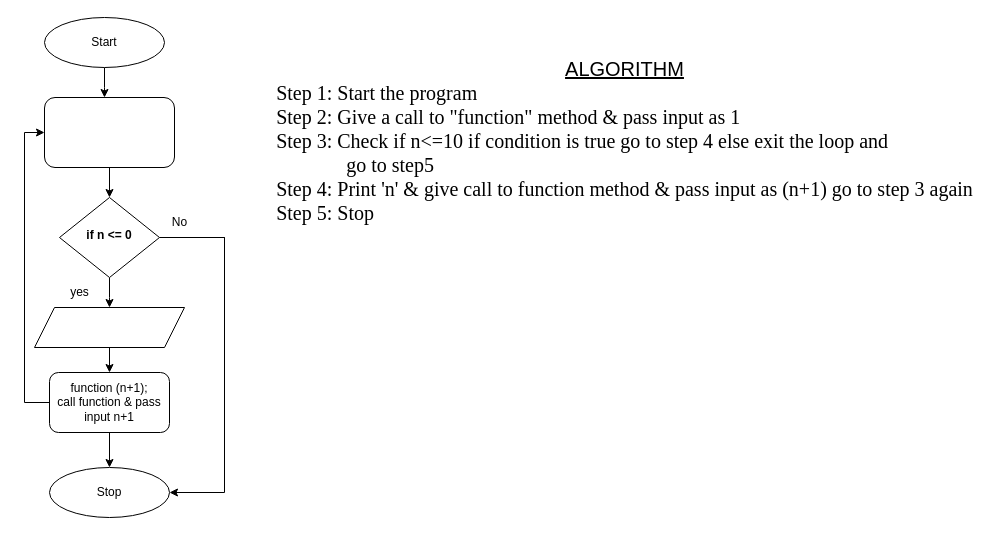
Some shapes in this 1002 by 535 pixel diagram are drawn without their labels. Here are the shapes that lost their labels. From the top down, the centre of each, then its label:
the point at 109,132: function (1) call function method and pass 1 as input
the point at 109,327: Print n
